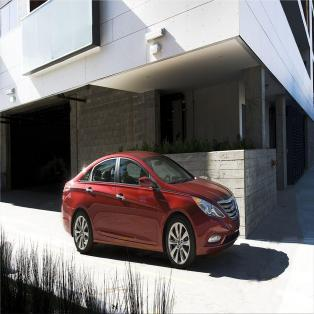Auto: (59, 146, 240, 272)
